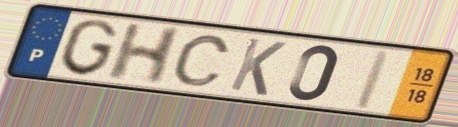0: (286, 43, 341, 103)
C: (169, 33, 234, 88)
G: (56, 17, 121, 79)
H: (103, 22, 187, 86)
I: (350, 48, 396, 113)
K: (226, 35, 289, 99)
